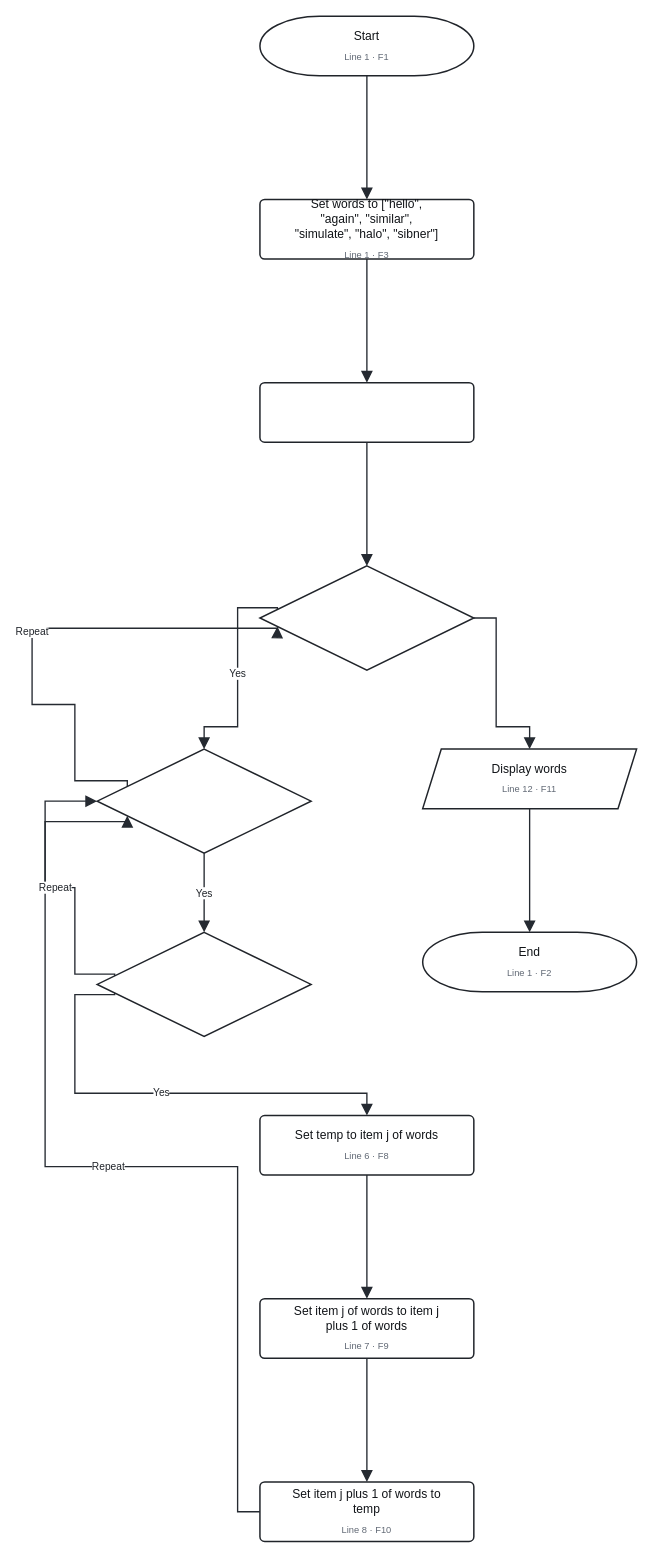
This 654x1559 diagram has some shape labels left out. Here are the shapes that lost their labels. From the top down, the centre of each, then its label:
At point 366,411: "Set n to the length of words minus 1 Line 2 · F4".
At point 366,617: "For i from 0 to n Line 3 · F5".
At point 203,801: "For j from 0 to n minus i Line 4 · F6".
At point 203,984: "Item j of words is greater than item j plus 1 of words? Line 5 · F7".
